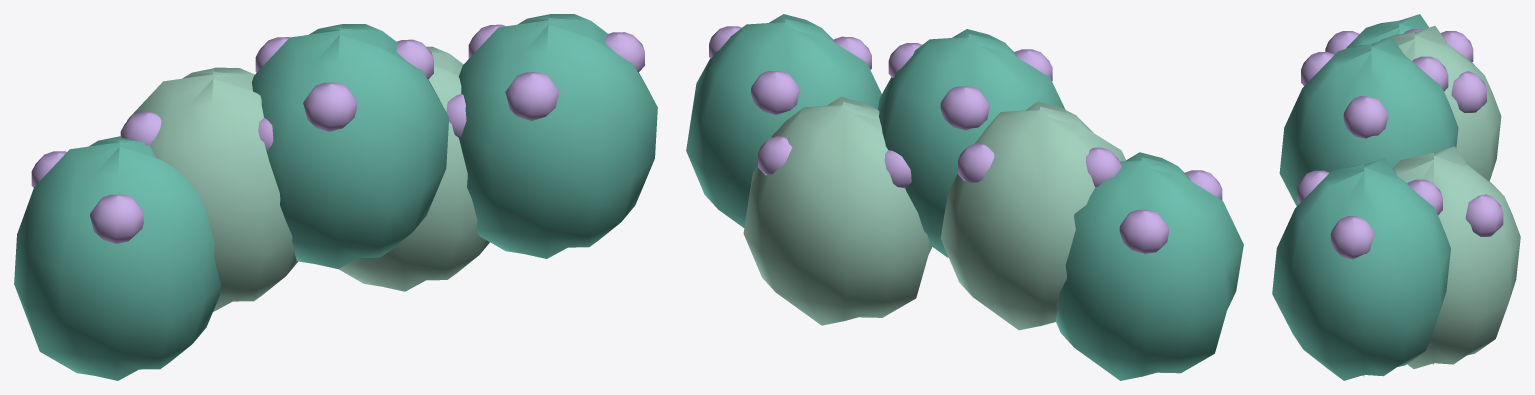
File: bush_laceleaf_hedge.glb
3 renders of one model, left to right at view 1: azimuth 30°, elevation 25°; view 2: azimuth 150°, elevation 25°; view 3: azimuth 270°, elevation 25°, orthographic. The views are drawn at different scales.
Parts seen in each view (by area): view 1: BUSH_laceleaf_hedge_leafmass_0, BUSH_laceleaf_hedge_leafmass_4, BUSH_laceleaf_hedge_leafmass_2, BUSH_laceleaf_hedge_leafmass_1, BUSH_laceleaf_hedge_leafmass_3, BUSH_laceleaf_hedge_bloom_0_2, BUSH_laceleaf_hedge_bloom_2_1, BUSH_laceleaf_hedge_bloom_4_0, BUSH_laceleaf_hedge_bloom_1_1, BUSH_laceleaf_hedge_bloom_4_1, BUSH_laceleaf_hedge_bloom_2_2, BUSH_laceleaf_hedge_bloom_3_1 (+1 smaller); view 2: BUSH_laceleaf_hedge_leafmass_3, BUSH_laceleaf_hedge_leafmass_0, BUSH_laceleaf_hedge_leafmass_1, BUSH_laceleaf_hedge_leafmass_4, BUSH_laceleaf_hedge_leafmass_2, BUSH_laceleaf_hedge_bloom_0_1, BUSH_laceleaf_hedge_bloom_2_0, BUSH_laceleaf_hedge_bloom_4_2, BUSH_laceleaf_hedge_bloom_1_0, BUSH_laceleaf_hedge_bloom_1_1, BUSH_laceleaf_hedge_bloom_3_2, BUSH_laceleaf_hedge_bloom_3_0 (+5 smaller); view 3: BUSH_laceleaf_hedge_leafmass_4, BUSH_laceleaf_hedge_leafmass_2, BUSH_laceleaf_hedge_leafmass_3, BUSH_laceleaf_hedge_leafmass_1, BUSH_laceleaf_hedge_bloom_2_2, BUSH_laceleaf_hedge_bloom_4_1, BUSH_laceleaf_hedge_bloom_3_2, BUSH_laceleaf_hedge_bloom_1_0, BUSH_laceleaf_hedge_leafmass_0, BUSH_laceleaf_hedge_bloom_2_0, BUSH_laceleaf_hedge_bloom_4_2, BUSH_laceleaf_hedge_bloom_2_1 (+3 smaller).
Part boxes in pixels (x1=…): BUSH_laceleaf_hedge_leafmass_0: x1=14, y1=136, x2=220, y2=380; BUSH_laceleaf_hedge_leafmass_4: x1=459, y1=14, x2=657, y2=258; BUSH_laceleaf_hedge_leafmass_2: x1=252, y1=24, x2=449, y2=268; BUSH_laceleaf_hedge_leafmass_1: x1=127, y1=68, x2=297, y2=311; BUSH_laceleaf_hedge_leafmass_3: x1=338, y1=46, x2=489, y2=291; BUSH_laceleaf_hedge_bloom_0_2: x1=90, y1=194, x2=143, y2=243; BUSH_laceleaf_hedge_bloom_2_1: x1=303, y1=82, x2=356, y2=131; BUSH_laceleaf_hedge_bloom_4_0: x1=505, y1=72, x2=558, y2=120; BUSH_laceleaf_hedge_bloom_1_1: x1=120, y1=111, x2=161, y2=145; BUSH_laceleaf_hedge_bloom_4_1: x1=604, y1=32, x2=644, y2=72; BUSH_laceleaf_hedge_bloom_2_2: x1=396, y1=39, x2=433, y2=79; BUSH_laceleaf_hedge_bloom_3_1: x1=446, y1=94, x2=466, y2=137; BUSH_laceleaf_hedge_leafmass_3: x1=743, y1=97, x2=931, y2=325; BUSH_laceleaf_hedge_leafmass_0: x1=1056, y1=152, x2=1243, y2=380; BUSH_laceleaf_hedge_leafmass_1: x1=940, y1=101, x2=1126, y2=330; BUSH_laceleaf_hedge_leafmass_4: x1=686, y1=14, x2=881, y2=227; BUSH_laceleaf_hedge_leafmass_2: x1=878, y1=29, x2=1065, y2=257; BUSH_laceleaf_hedge_bloom_0_1: x1=1119, y1=209, x2=1168, y2=253; BUSH_laceleaf_hedge_bloom_2_0: x1=940, y1=86, x2=989, y2=130; BUSH_laceleaf_hedge_bloom_4_2: x1=751, y1=71, x2=800, y2=114; BUSH_laceleaf_hedge_bloom_1_0: x1=958, y1=143, x2=994, y2=182; BUSH_laceleaf_hedge_bloom_1_1: x1=1085, y1=147, x2=1121, y2=186; BUSH_laceleaf_hedge_bloom_3_2: x1=758, y1=136, x2=792, y2=175; BUSH_laceleaf_hedge_bloom_3_0: x1=884, y1=150, x2=911, y2=188; BUSH_laceleaf_hedge_leafmass_4: x1=1272, y1=158, x2=1450, y2=380; BUSH_laceleaf_hedge_leafmass_2: x1=1279, y1=37, x2=1458, y2=206; BUSH_laceleaf_hedge_leafmass_3: x1=1392, y1=146, x2=1520, y2=368; BUSH_laceleaf_hedge_leafmass_1: x1=1379, y1=26, x2=1501, y2=181; BUSH_laceleaf_hedge_bloom_2_2: x1=1343, y1=96, x2=1388, y2=138; BUSH_laceleaf_hedge_bloom_4_1: x1=1330, y1=216, x2=1375, y2=259; BUSH_laceleaf_hedge_bloom_3_2: x1=1465, y1=194, x2=1503, y2=236; BUSH_laceleaf_hedge_bloom_1_0: x1=1451, y1=71, x2=1486, y2=112; BUSH_laceleaf_hedge_leafmass_0: x1=1346, y1=14, x2=1428, y2=48; BUSH_laceleaf_hedge_bloom_2_0: x1=1412, y1=56, x2=1448, y2=91; BUSH_laceleaf_hedge_bloom_4_2: x1=1407, y1=179, x2=1442, y2=214; BUSH_laceleaf_hedge_bloom_2_1: x1=1301, y1=52, x2=1334, y2=85.
Size of the model in its own units: 2.05 by 1.03 by 0.8346.
